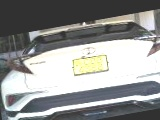car: (0, 10, 160, 120)
